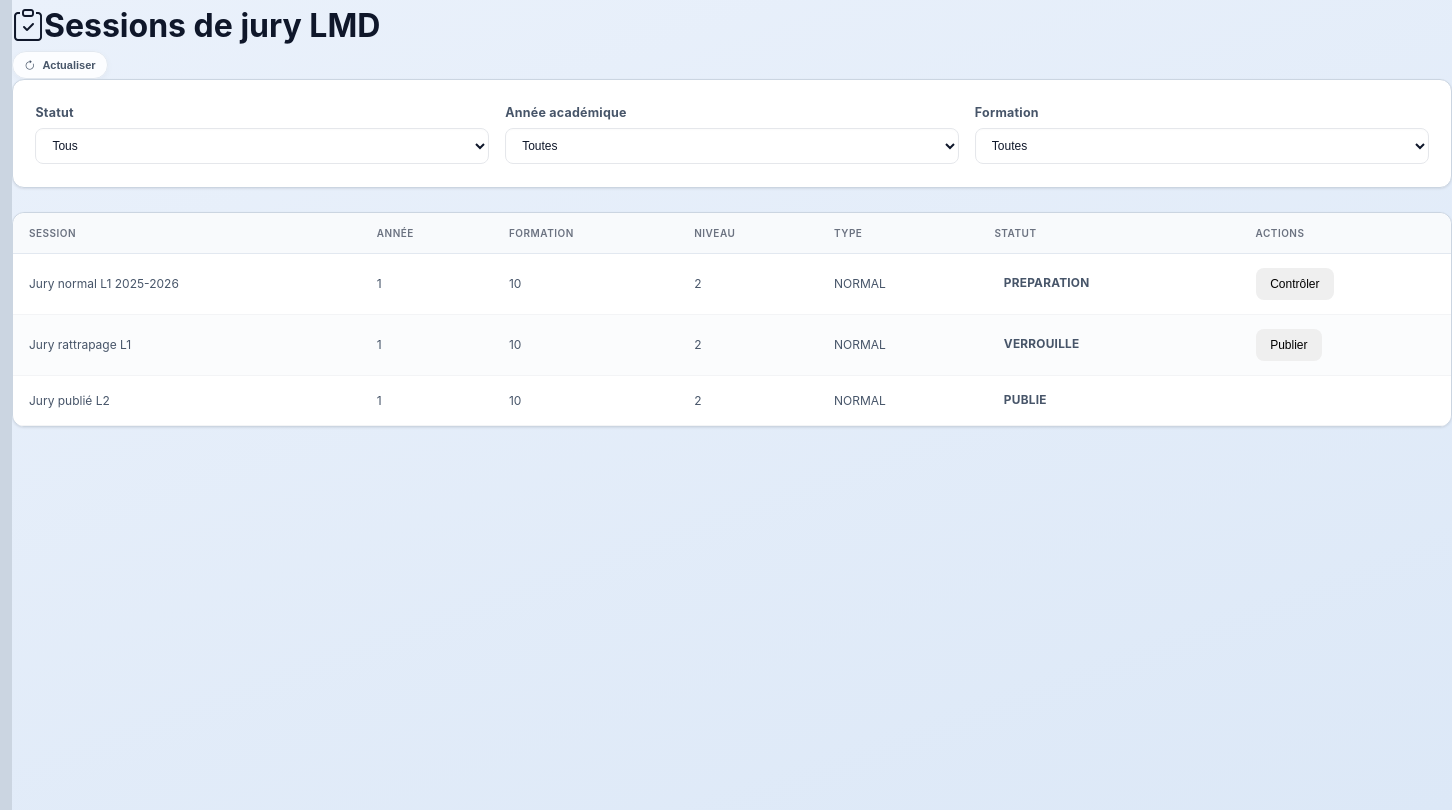
Scenario: pages/scolarite/Jurys — actions de transition › notifie le détail renvoyé par le backend quand l’action échoue
Expected: the text "Jury normal L1 2025-2026" is shown, [13,254,361,314]
Click the button "Contrôler" at (1295, 284), box [1256,268,1334,300]
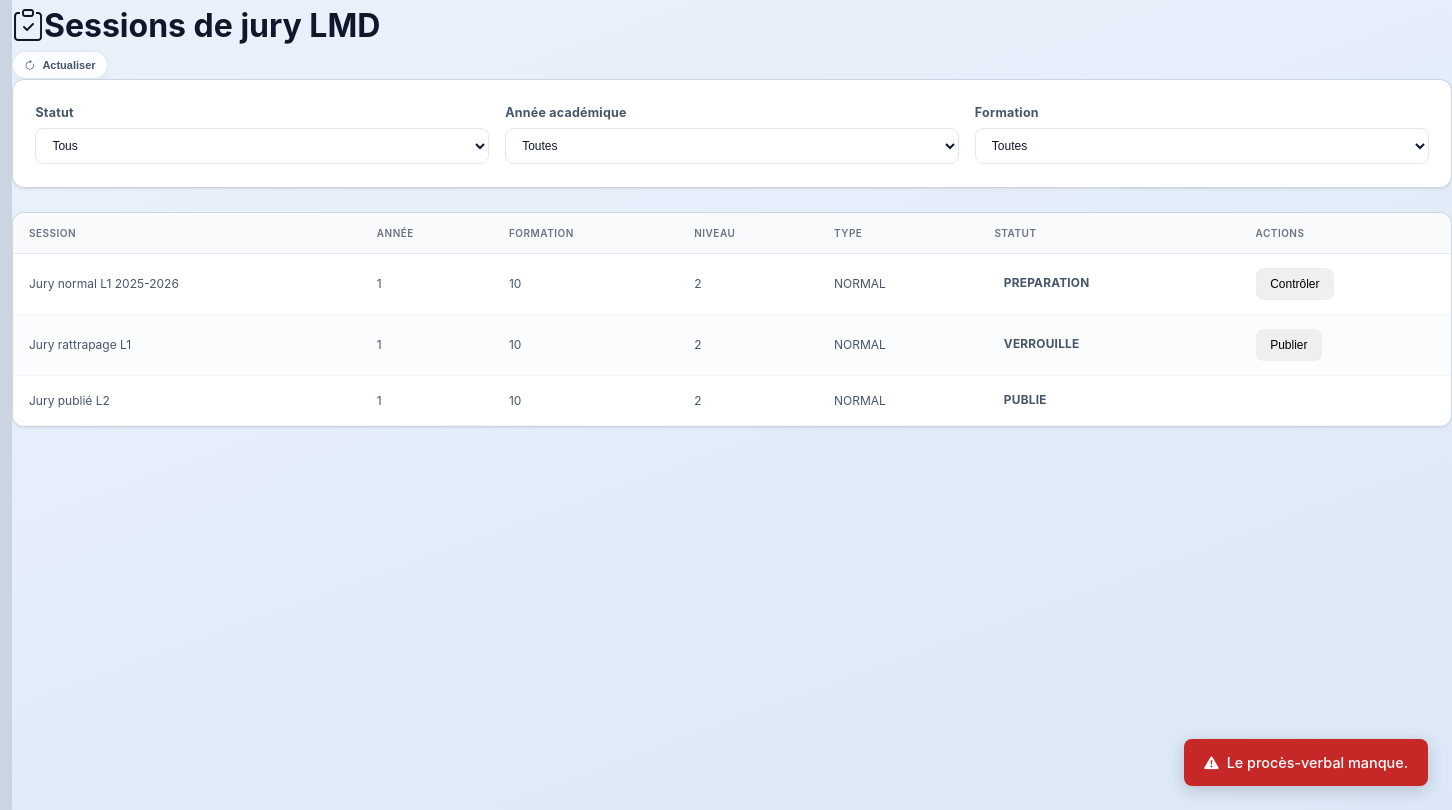
Expected: the text "Le procès-verbal manque." is shown, [1184,739,1428,786]
